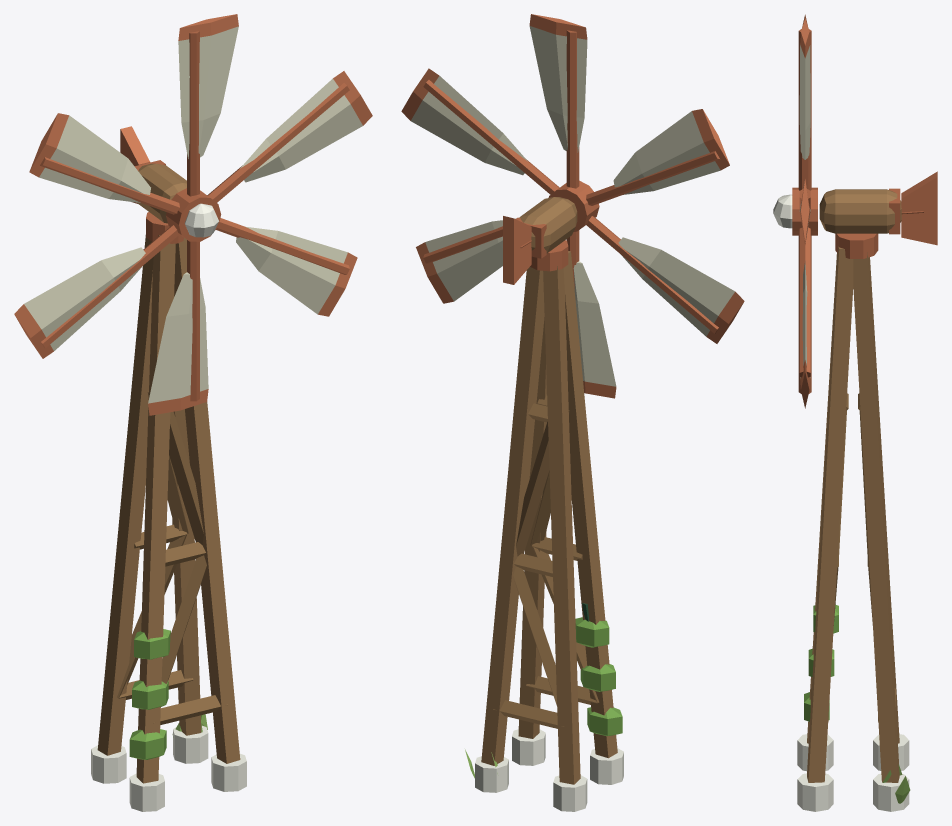
The model's file is wind_turbine_prairie.glb.
3 views of the same model, side by side, from view 1: azimuth 30°, elevation 25°; view 2: azimuth 150°, elevation 25°; view 3: azimuth 270°, elevation 25° (orthographic). The views are drawn at different scales.
Parts seen in each view (by area): view 1: move_spin_rotor, Splayed_timber_leg.001, Splayed_timber_leg, Splayed_timber_leg.002, Splayed_timber_leg.003, Trestle_diagonal.001, Trestle_diagonal, Crafted_nacelle, Ceramic_trestle_shoe, Ceramic_trestle_shoe.001, Ceramic_trestle_shoe.002, Ceramic_trestle_shoe.003 (+8 smaller); view 2: move_spin_rotor, Splayed_timber_leg.001, Splayed_timber_leg.003, Splayed_timber_leg, Splayed_timber_leg.002, Crafted_nacelle, Trestle_diagonal.003, Terracotta_tail_fin, Trestle_diagonal.002, Ceramic_trestle_shoe.001, Ceramic_trestle_shoe.002, Ceramic_trestle_shoe (+7 smaller); view 3: Splayed_timber_leg.002, Splayed_timber_leg.003, move_spin_rotor, Crafted_nacelle, Terracotta_tail_fin, Ceramic_trestle_shoe.002, Copper_yaw_bearing, Ceramic_trestle_shoe.003, Splayed_timber_leg.001, Splayed_timber_leg, Ceramic_trestle_shoe, Ceramic_trestle_shoe.001 (+1 smaller).
Part boxes in pixels (bbox=[...]): move_spin_rotor: bbox=[14, 14, 372, 415]; Splayed_timber_leg.001: bbox=[97, 235, 153, 755]; Splayed_timber_leg: bbox=[136, 235, 175, 783]; Splayed_timber_leg.002: bbox=[174, 238, 240, 763]; Splayed_timber_leg.003: bbox=[172, 295, 201, 735]; Trestle_diagonal.001: bbox=[169, 411, 203, 544]; Trestle_diagonal: bbox=[161, 555, 206, 683]; Crafted_nacelle: bbox=[137, 163, 186, 223]; Ceramic_trestle_shoe: bbox=[129, 773, 164, 811]; Ceramic_trestle_shoe.001: bbox=[91, 745, 126, 783]; Ceramic_trestle_shoe.002: bbox=[211, 753, 246, 791]; Ceramic_trestle_shoe.003: bbox=[173, 725, 208, 763]; move_spin_rotor: bbox=[401, 14, 744, 398]; Splayed_timber_leg.001: bbox=[543, 265, 580, 784]; Splayed_timber_leg.003: bbox=[481, 267, 544, 765]; Splayed_timber_leg: bbox=[563, 251, 617, 758]; Splayed_timber_leg.002: bbox=[518, 317, 546, 738]; Crafted_nacelle: bbox=[519, 197, 577, 253]; Trestle_diagonal.003: bbox=[516, 421, 549, 556]; Terracotta_tail_fin: bbox=[503, 216, 531, 284]; Trestle_diagonal.002: bbox=[513, 566, 557, 706]; Ceramic_trestle_shoe.001: bbox=[553, 775, 587, 811]; Ceramic_trestle_shoe.002: bbox=[512, 729, 545, 765]; Ceramic_trestle_shoe: bbox=[590, 748, 623, 784]; Splayed_timber_leg.002: bbox=[807, 246, 853, 782]; Splayed_timber_leg.003: bbox=[853, 252, 899, 782]; move_spin_rotor: bbox=[773, 14, 817, 408]; Crafted_nacelle: bbox=[819, 189, 901, 233]; Terracotta_tail_fin: bbox=[901, 171, 937, 245]; Ceramic_trestle_shoe.002: bbox=[797, 773, 833, 811]; Copper_yaw_bearing: bbox=[835, 233, 878, 258]; Ceramic_trestle_shoe.003: bbox=[873, 773, 909, 811]; Splayed_timber_leg.001: bbox=[870, 260, 899, 743]; Splayed_timber_leg: bbox=[807, 254, 836, 743]; Ceramic_trestle_shoe: bbox=[797, 734, 833, 771]; Ceramic_trestle_shoe.001: bbox=[873, 734, 909, 770].
Bounding box in the file's own units: 2.37 × 4.88 × 0.9549.
